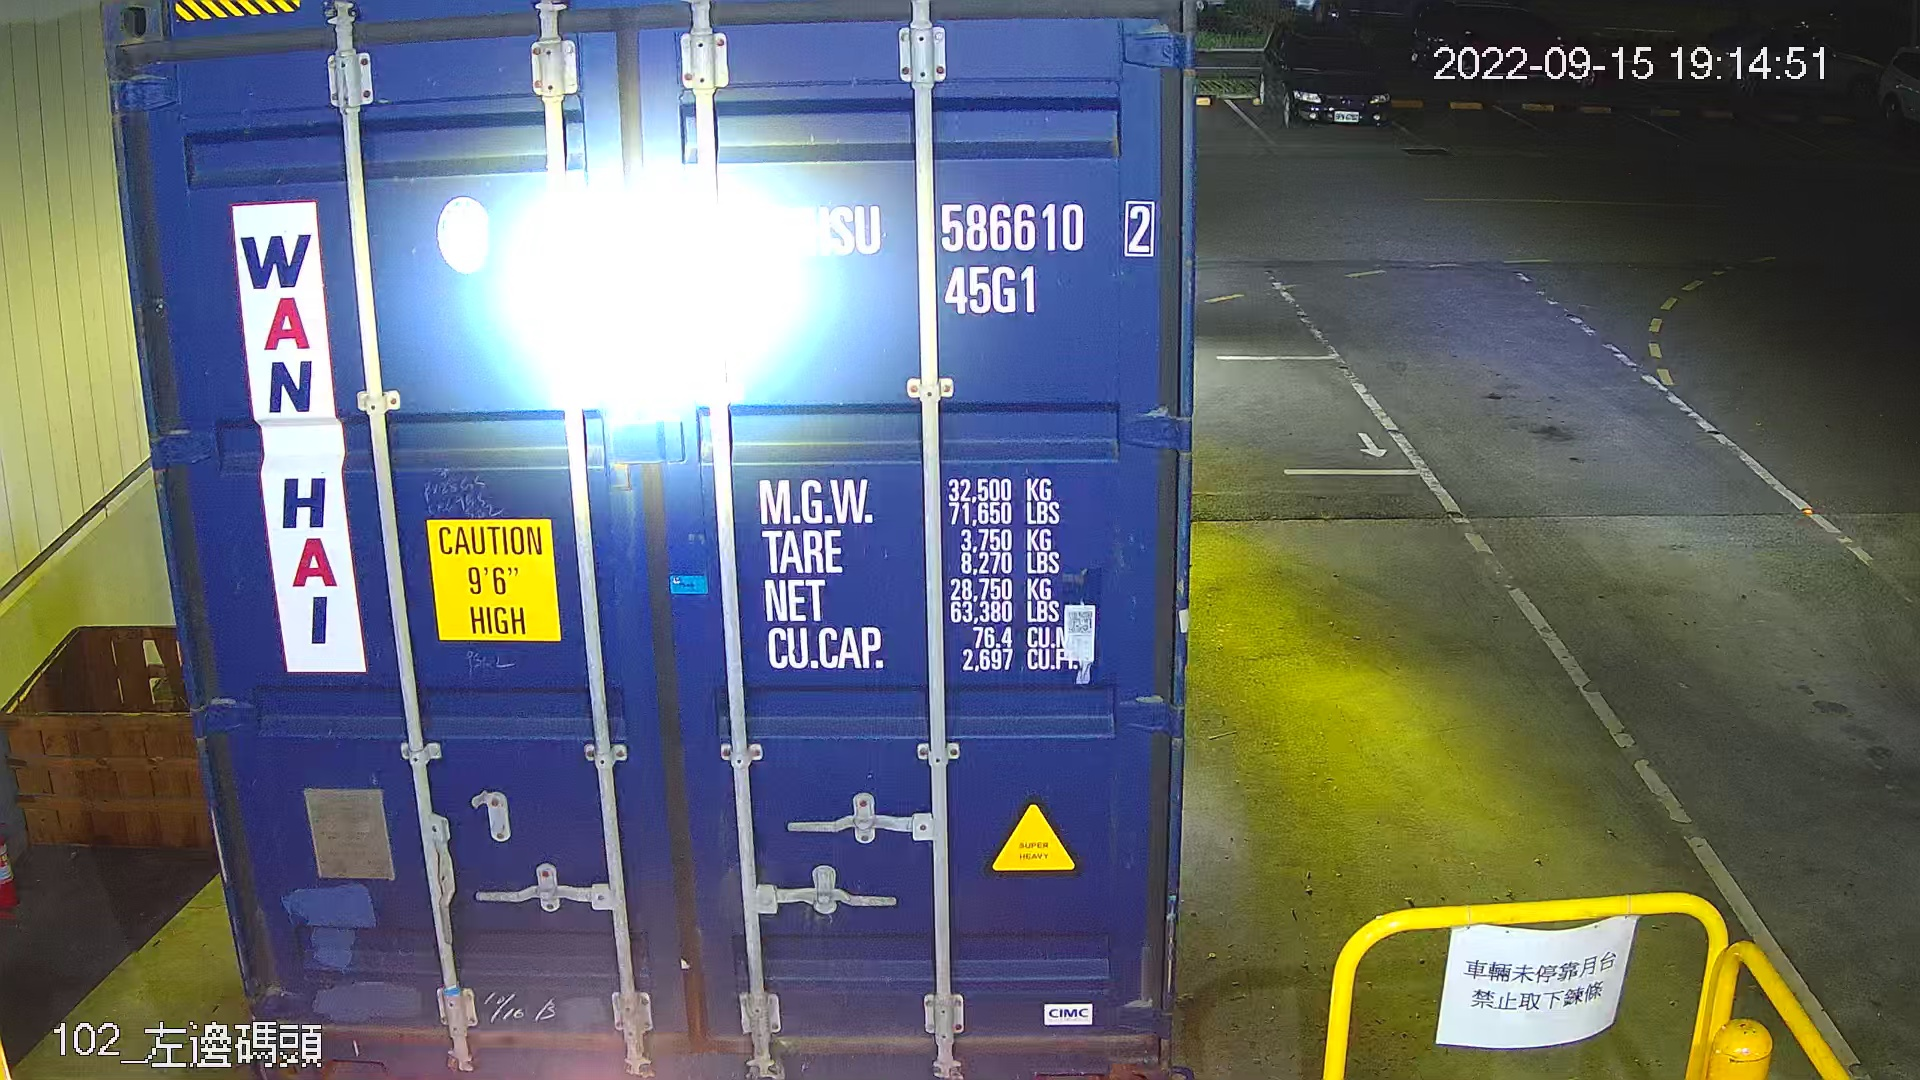container: (745, 189, 1170, 330)
